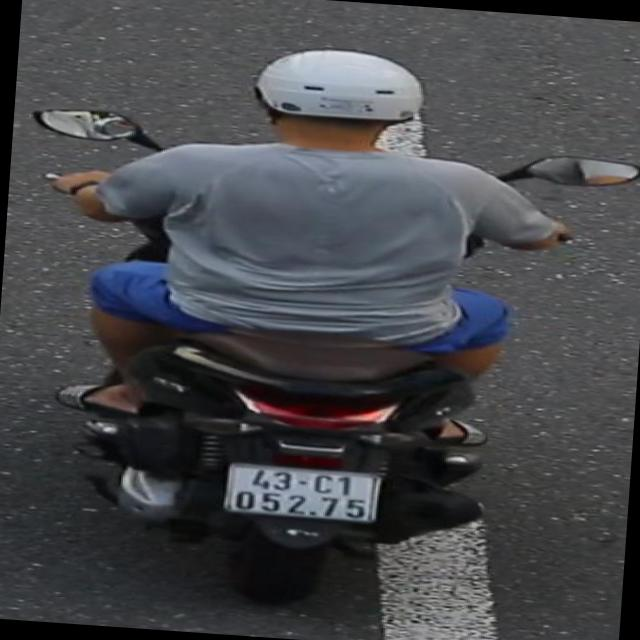LP: (216, 453, 388, 528)
helmet: (244, 41, 446, 171)
